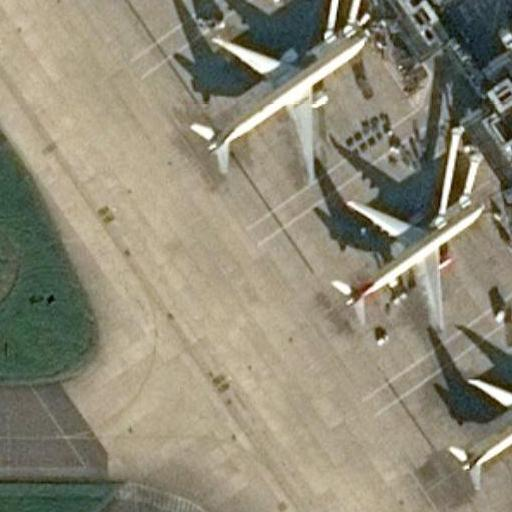Aircraft: (184, 22, 373, 182), (327, 192, 489, 330), (442, 365, 512, 495)
